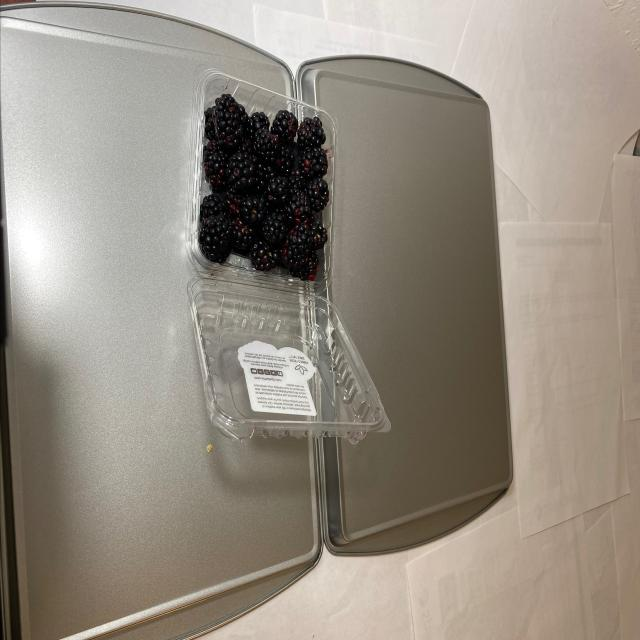blackberries: (198, 106, 332, 270)
